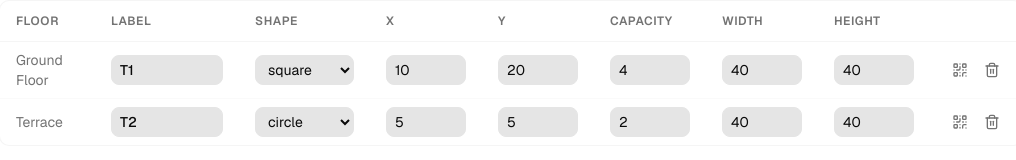
Test: FloorPlanListView › reverts a blanked-out label instead of committing it
Clear the field with test id "floor-plan-list-label-t1" at point(167, 70), box x1=111 y1=55 x2=223 y2=85
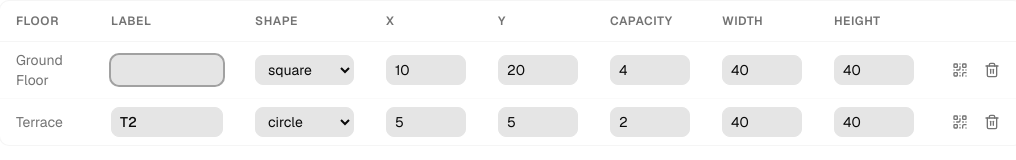
Press Tab
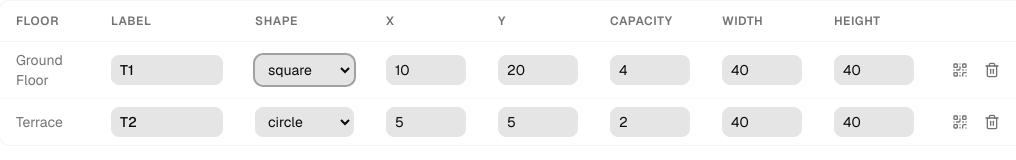
expect the field with test id "floor-plan-list-label-t1" holds "T1": met, box x1=111 y1=55 x2=223 y2=85
